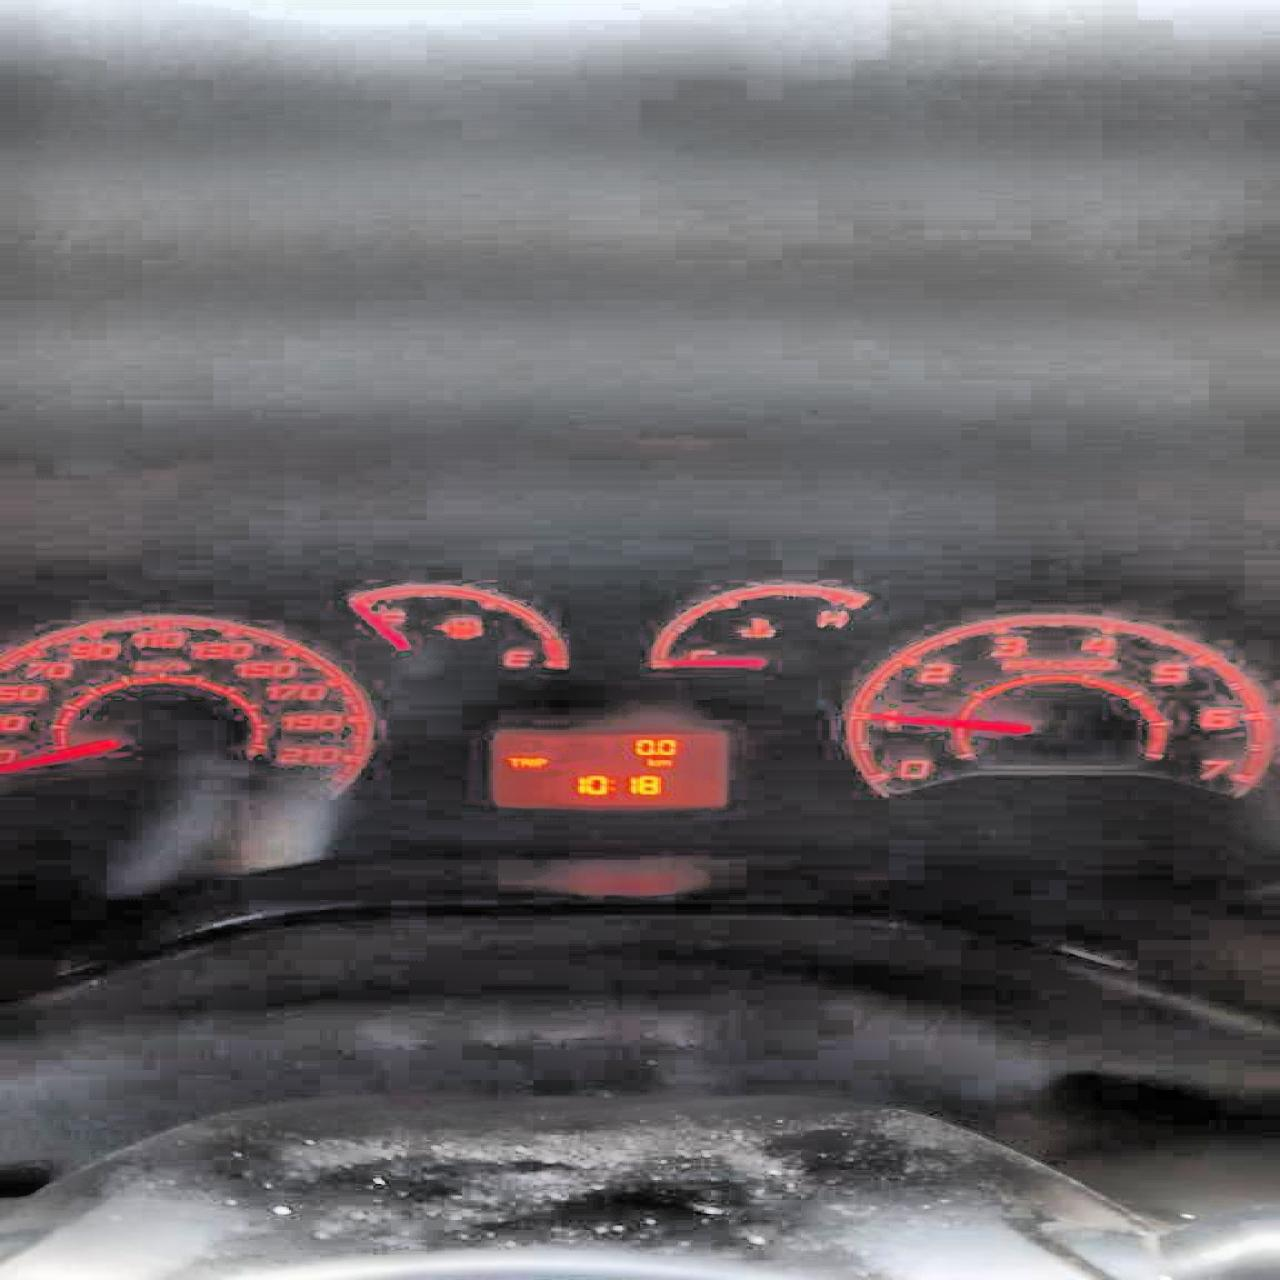-: (648, 751, 655, 755)
0: (585, 774, 606, 794), (633, 737, 654, 754), (655, 737, 675, 754)
1: (573, 774, 585, 794), (625, 775, 635, 794)
8: (635, 774, 658, 794)
X: (655, 758, 672, 767), (606, 777, 615, 791), (536, 756, 545, 768), (645, 756, 655, 765), (506, 756, 517, 765), (517, 757, 526, 767), (526, 757, 533, 767)
odometer: (476, 723, 737, 812)
